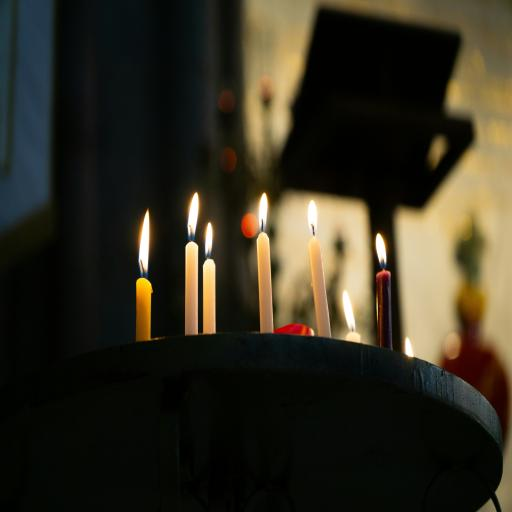candlelight: (306, 199, 333, 342), (255, 190, 274, 338), (135, 206, 153, 345), (374, 231, 392, 353), (184, 190, 199, 336), (202, 219, 216, 337), (343, 291, 362, 344), (405, 336, 413, 358)
